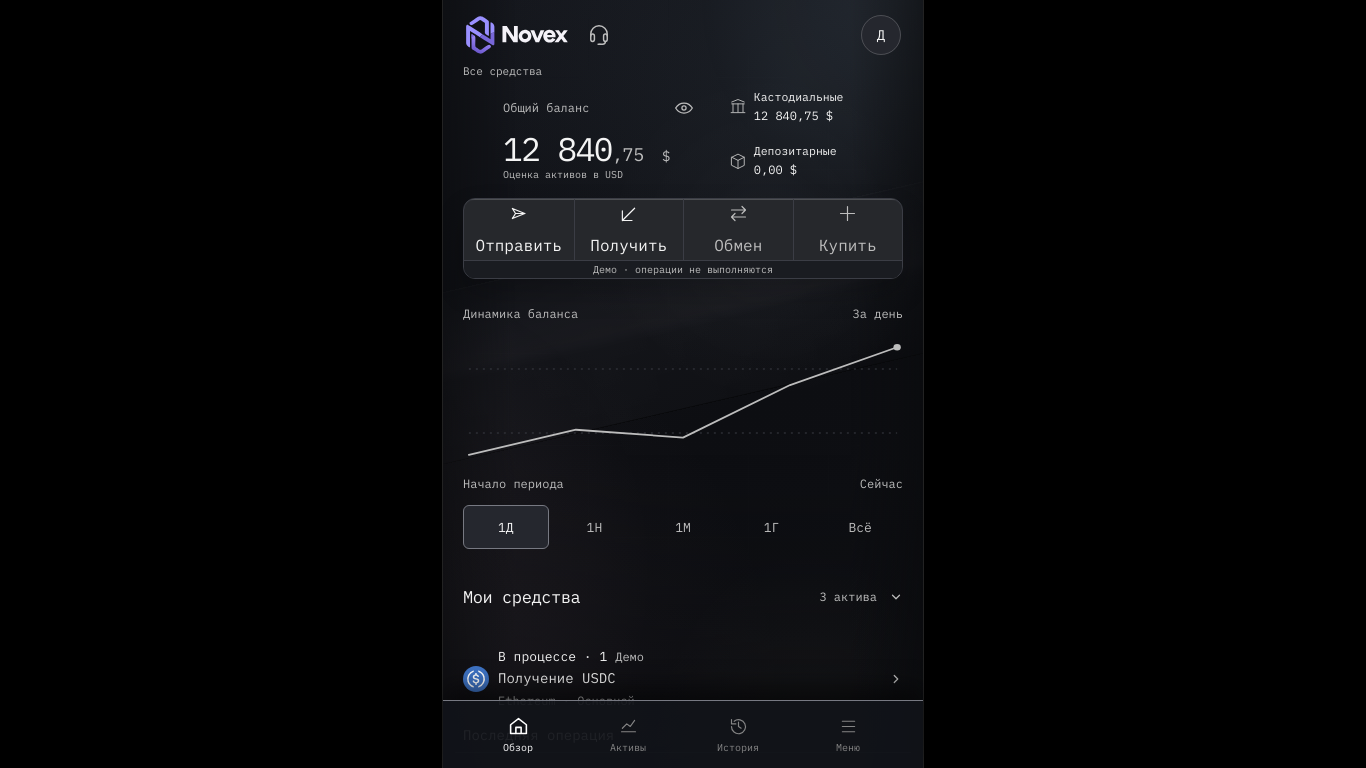
Scenario: viewer route link is absent from details and the direct Support panel
Click the button "Меню" at (848, 735), box [793,711,903,759]
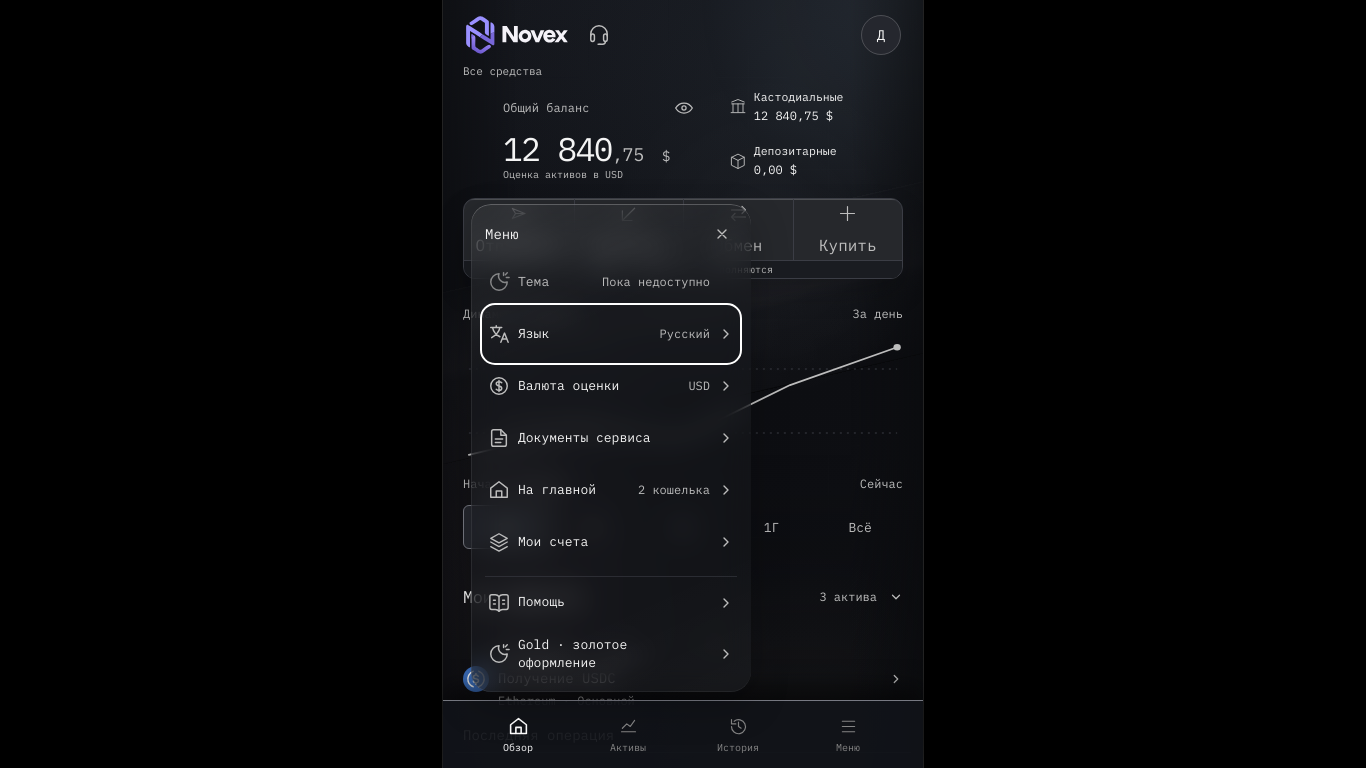
Click the button "Документы сервиса" at (611, 438), box [485,412,737,464]
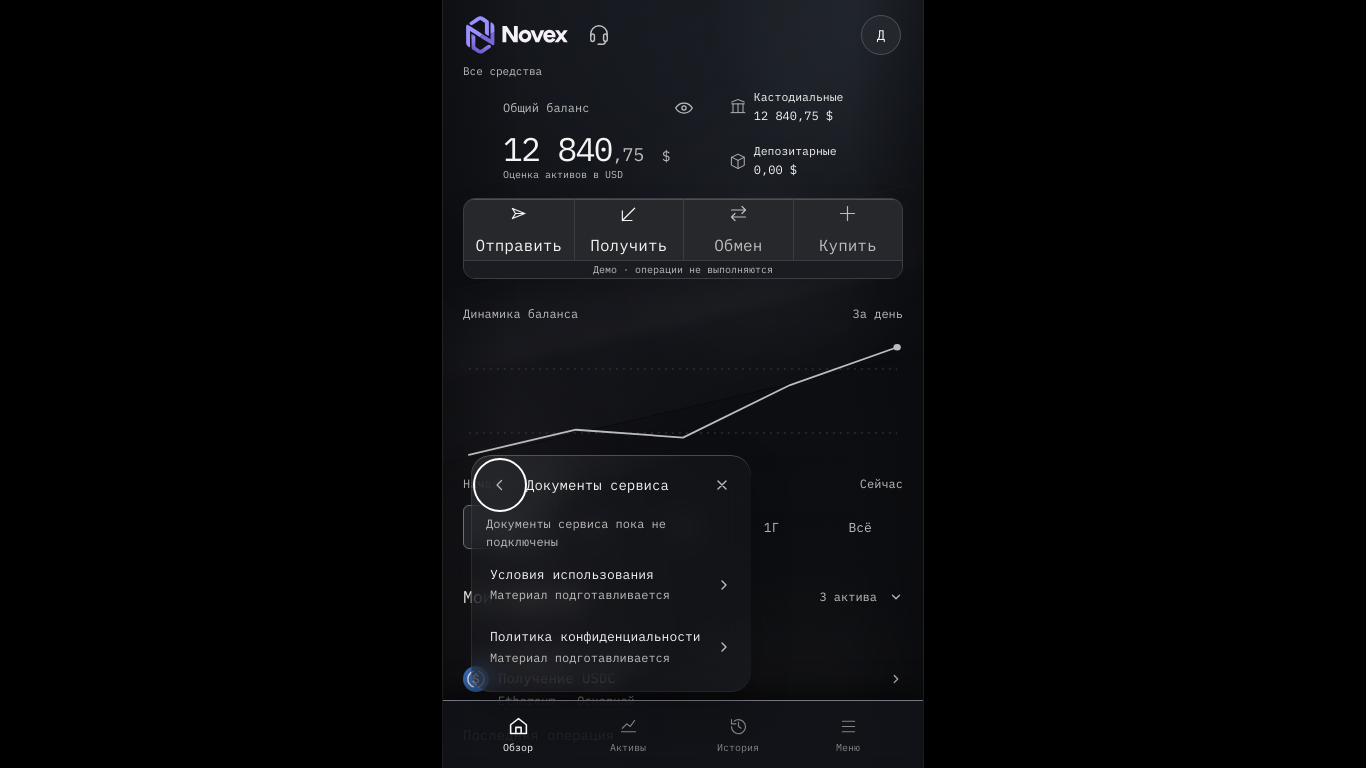
Result: the dialog "Документы сервиса" is shown at [471,455,751,692]
Click the button named "Закрыть панель" at (722, 485), box [700,463,744,507]
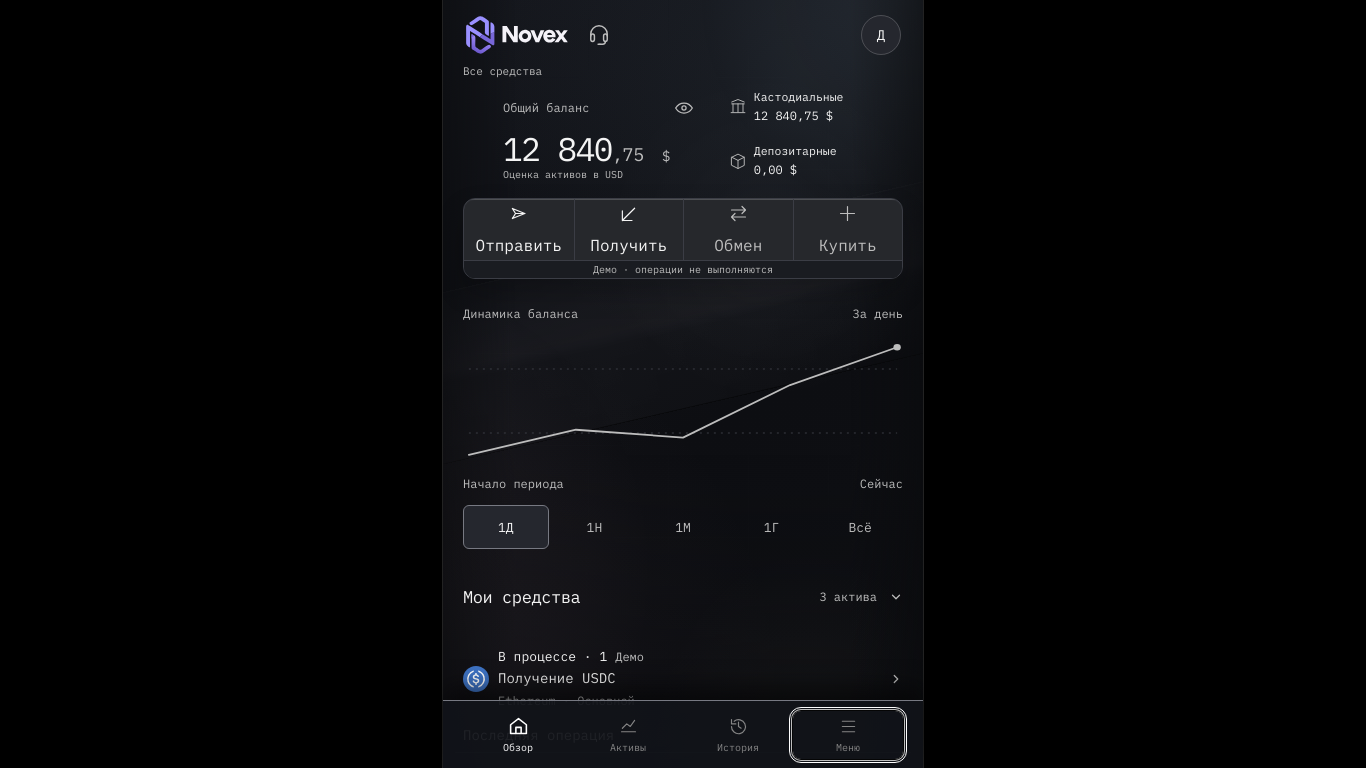
Click the button named "Поддержка" at (599, 35), box [577,13,621,57]
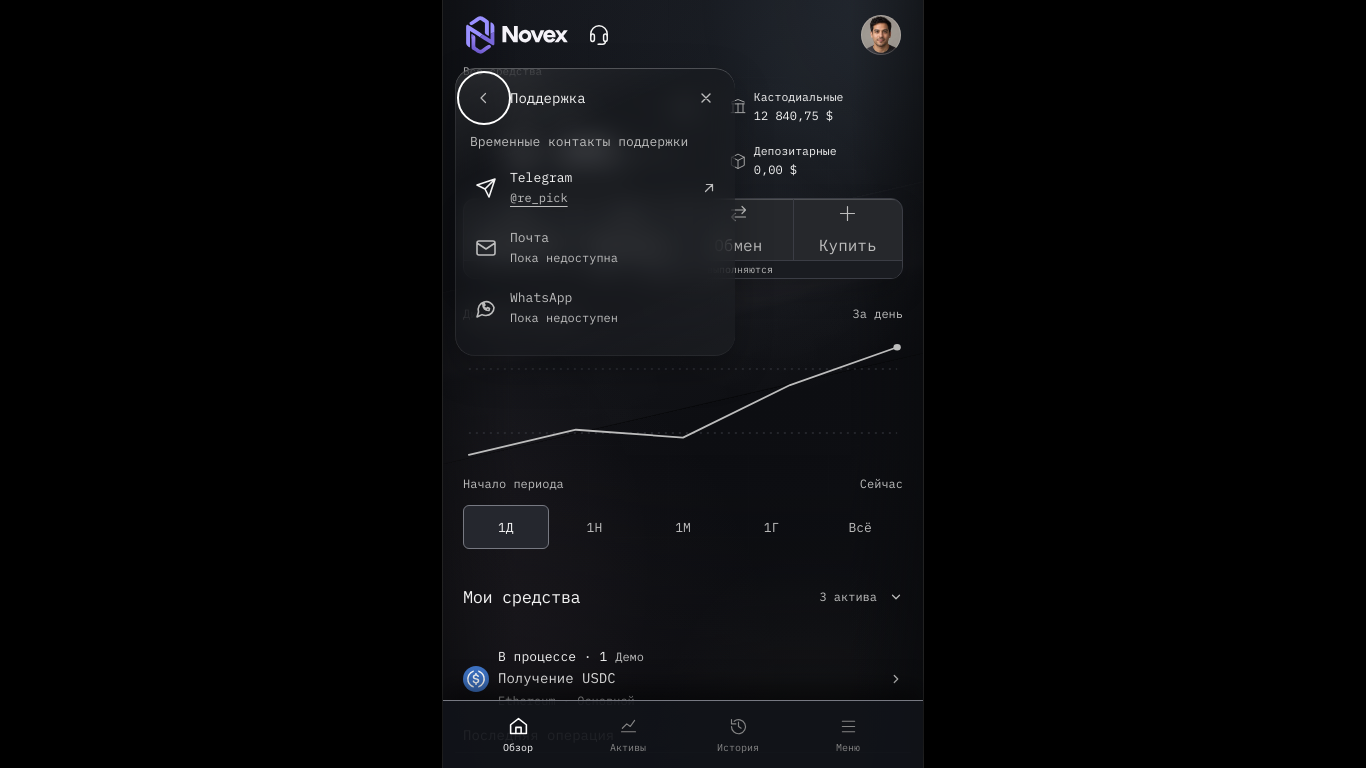
Result: the dialog "Поддержка" is shown at [455,68,735,356]
